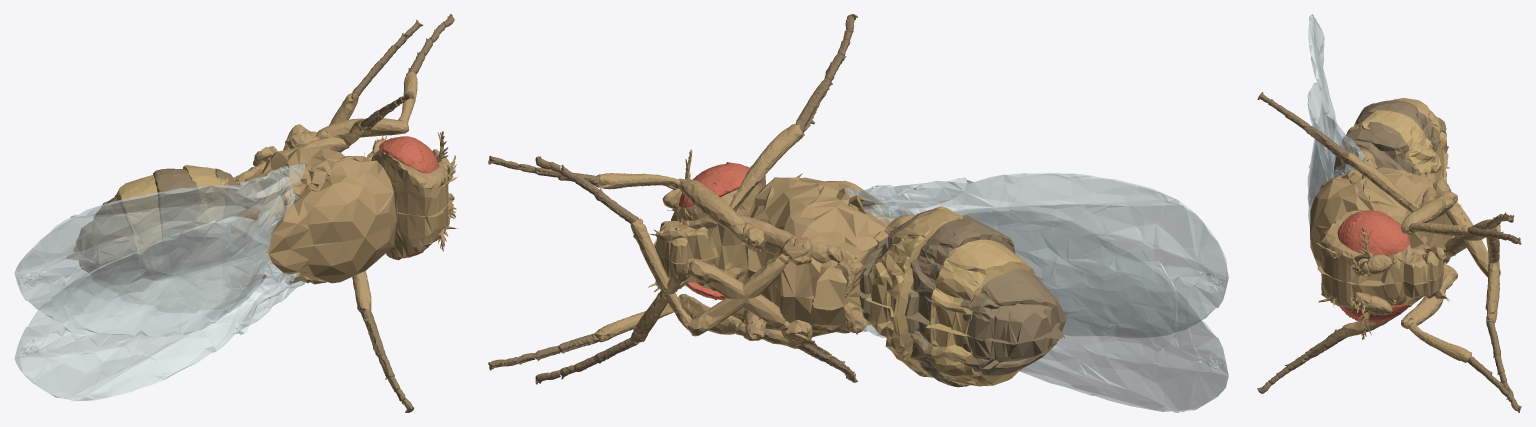
File: fly.glb
The picture shows the model from 3 angles, left to right: view 1: azimuth 30°, elevation 25°; view 2: azimuth 150°, elevation 25°; view 3: azimuth 270°, elevation 25°; orthographic projection. The views are drawn at different scales.
Visible parts, largest first — view 1: l_wing_mesh, r_wing_mesh, c_thorax_mesh, c_head_mesh, c_abdomen6_mesh, c_abdomen12_mesh, c_abdomen4_mesh, c_abdomen5_mesh, c_abdomen3_mesh, l_eye_mesh, lf_trochanterfemur_mesh, lh_trochanterfemur_mesh (+4 smaller); view 2: l_wing_mesh, r_wing_mesh, c_thorax_mesh, c_abdomen6_mesh, c_abdomen5_mesh, c_abdomen3_mesh, c_abdomen4_mesh, c_head_mesh, lm_trochanterfemur_mesh, rm_trochanterfemur_mesh, lh_tibia_mesh, lf_trochanterfemur_mesh (+11 smaller); view 3: c_thorax_mesh, c_head_mesh, l_wing_mesh, l_eye_mesh, c_abdomen12_mesh, c_abdomen3_mesh, r_wing_mesh, c_rostrum_mesh, c_abdomen4_mesh, lm_trochanterfemur_mesh, lh_tibia_mesh, rf_trochanterfemur_mesh (+17 smaller).
Boxes of the visible parts, left/top/right/bottom form: l_wing_mesh: left=14, top=164, right=305, bottom=336; r_wing_mesh: left=14, top=216, right=304, bottom=401; c_thorax_mesh: left=236, top=148, right=396, bottom=284; c_head_mesh: left=371, top=149, right=458, bottom=260; c_abdomen6_mesh: left=67, top=197, right=143, bottom=272; c_abdomen12_mesh: left=215, top=168, right=266, bottom=292; c_abdomen4_mesh: left=153, top=168, right=200, bottom=238; c_abdomen5_mesh: left=114, top=175, right=161, bottom=251; c_abdomen3_mesh: left=183, top=165, right=228, bottom=227; l_eye_mesh: left=379, top=136, right=439, bottom=173; lf_trochanterfemur_mesh: left=308, top=118, right=408, bottom=139; lh_trochanterfemur_mesh: left=235, top=137, right=348, bottom=183; l_wing_mesh: left=846, top=173, right=1228, bottom=337; r_wing_mesh: left=862, top=210, right=1228, bottom=412; c_thorax_mesh: left=745, top=173, right=896, bottom=337; c_abdomen6_mesh: left=960, top=269, right=1067, bottom=376; c_abdomen5_mesh: left=926, top=239, right=1036, bottom=386; c_abdomen3_mesh: left=865, top=206, right=962, bottom=377; c_abdomen4_mesh: left=900, top=215, right=1015, bottom=387; c_head_mesh: left=667, top=175, right=765, bottom=290; lm_trochanterfemur_mesh: left=688, top=235, right=797, bottom=336; rm_trochanterfemur_mesh: left=688, top=259, right=794, bottom=343; lh_tibia_mesh: left=729, top=123, right=804, bottom=211; lf_trochanterfemur_mesh: left=678, top=178, right=745, bottom=242; c_thorax_mesh: left=1310, top=158, right=1462, bottom=267; c_head_mesh: left=1317, top=210, right=1411, bottom=309; l_wing_mesh: left=1307, top=14, right=1367, bottom=208; l_eye_mesh: left=1337, top=210, right=1409, bottom=255; c_abdomen12_mesh: left=1334, top=122, right=1416, bottom=176; c_abdomen3_mesh: left=1347, top=110, right=1442, bottom=177; r_wing_mesh: left=1307, top=82, right=1332, bottom=225; c_rostrum_mesh: left=1403, top=244, right=1450, bottom=301; c_abdomen4_mesh: left=1354, top=100, right=1444, bottom=172; lm_trochanterfemur_mesh: left=1433, top=180, right=1500, bottom=277; lh_tibia_mesh: left=1342, top=153, right=1419, bottom=212; rf_trochanterfemur_mesh: left=1401, top=274, right=1454, bottom=328.
Bounding box in the file's own units: 4.15 × 2.35 × 1.87.
